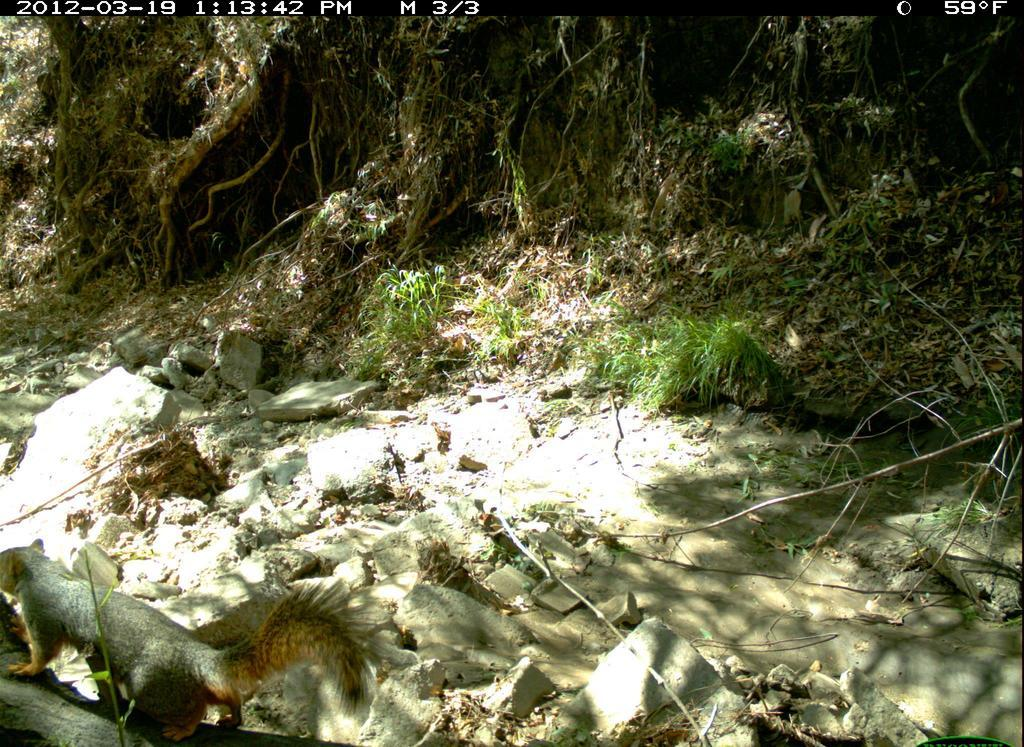squirrel: (3, 537, 388, 744)
